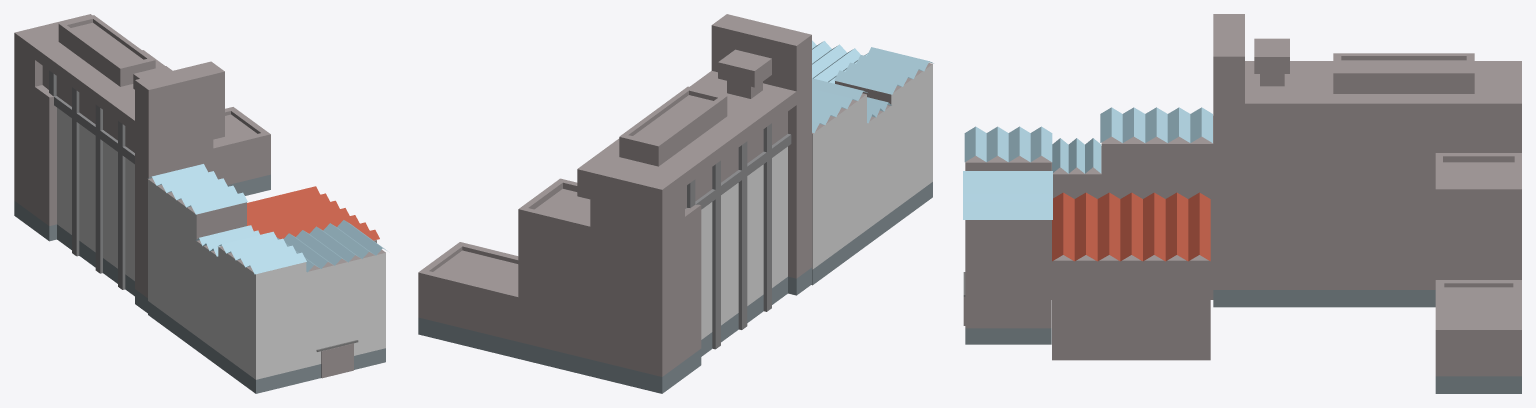
Rendered from MoinhoVelho.fbx.
The picture shows the model from 3 angles, left to right: view 1: azimuth 30°, elevation 25°; view 2: azimuth 150°, elevation 25°; view 3: azimuth 270°, elevation 25°; orthographic projection. The views are drawn at different scales.
Parts seen in each view (by area): view 1: Cube, Cube.005, Cube.001, Plane.003, Plane.001, Plane.002, Plane, Plane.004; view 2: Cube, Cube.005, Cube.001, Plane, Plane.002, Plane.001; view 3: Cube, Cube.005, Plane.003, Plane.001, Plane.002, Plane, Plane.004.
Part boxes in pixels (x1,y1,x2,y2): Cube: (14,14,270,313); Cube.005: (148,178,385,393); Cube.001: (49,70,134,289); Plane.003: (247,186,379,240); Plane.001: (277,220,386,272); Plane.002: (148,164,247,214); Plane: (218,231,306,274); Plane.004: (196,225,259,256); Cube: (418,14,811,393); Cube.005: (811,63,932,285); Cube.001: (685,123,791,349); Plane: (834,47,933,94); Plane.002: (812,78,867,133); Plane.001: (812,40,867,83); Cube: (1213,14,1521,393); Cube.005: (963,116,1213,360); Plane.003: (1052,192,1210,261); Plane.001: (963,171,1052,219); Plane.002: (1100,107,1212,142); Plane: (964,126,1052,162); Plane.004: (1052,138,1101,173).
Bounding box in the file's own units: 340 × 330 × 647.
